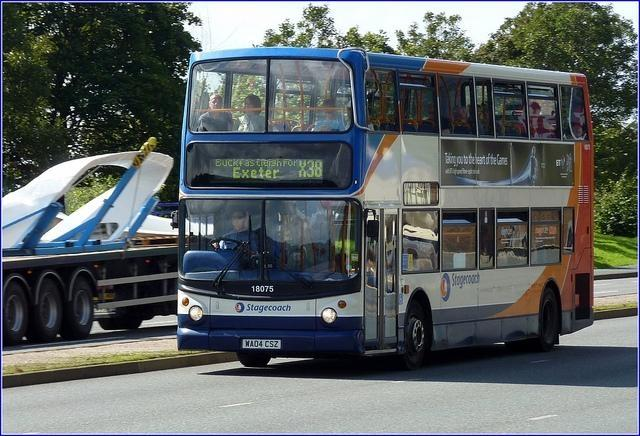bus: (180, 47, 598, 371)
truck: (1, 139, 177, 348)
